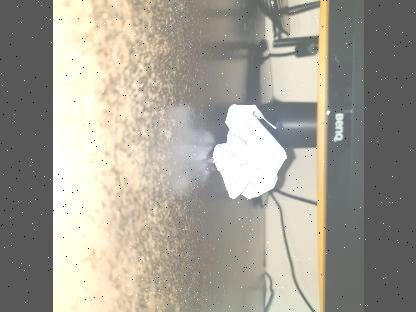Others: (210, 104, 288, 201)
